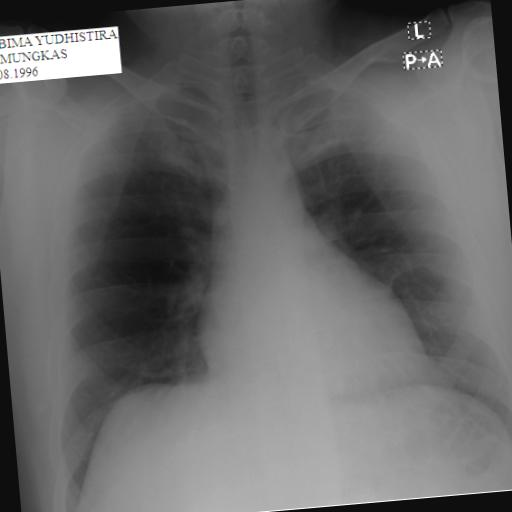kardiomegali: (19, 19, 512, 512)
